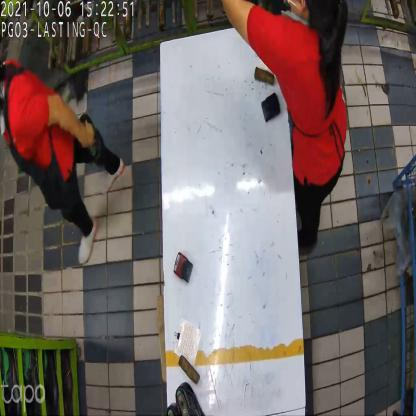stamp: (173, 251, 195, 284), (261, 93, 282, 126)
